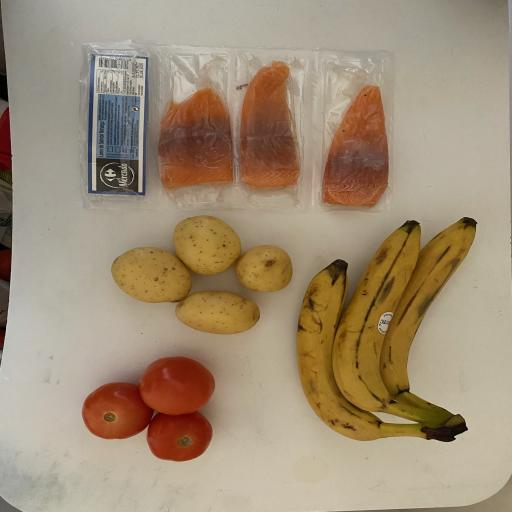banana: (294, 259, 434, 451), (328, 216, 448, 438), (381, 214, 482, 434)
potato: (110, 244, 195, 306), (169, 212, 247, 279), (173, 289, 265, 339), (234, 243, 295, 296)
salmon: (318, 82, 392, 210), (235, 60, 304, 194), (160, 84, 236, 192)
tomato: (134, 354, 220, 416), (77, 377, 150, 441), (142, 409, 216, 462)
